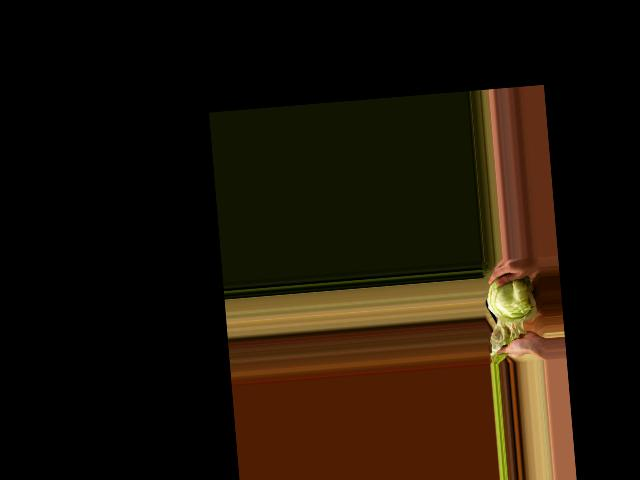lettuce: (483, 270, 541, 335)
